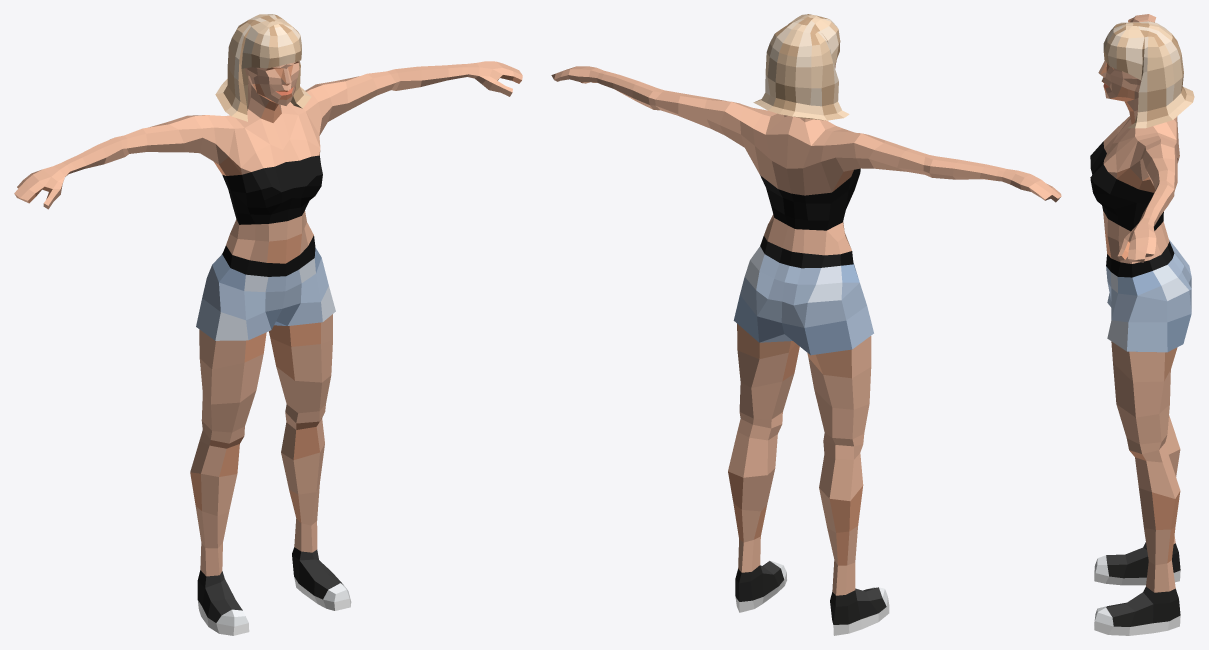
Rendered from casual_Female_K-model.fbx.
3 views of the same model, side by side, from view 1: azimuth 30°, elevation 25°; view 2: azimuth 150°, elevation 25°; view 3: azimuth 270°, elevation 25° (orthographic).
Parts seen in each view (by area): view 1: casual_Female_K, acc_hair_punkin; view 2: casual_Female_K, acc_hair_punkin; view 3: casual_Female_K, acc_hair_punkin.
Part boxes in pixels (bbox=[...]): casual_Female_K: bbox=[14, 61, 522, 635]; acc_hair_punkin: bbox=[215, 14, 311, 121]; casual_Female_K: bbox=[551, 59, 1061, 635]; acc_hair_punkin: bbox=[753, 14, 849, 120]; casual_Female_K: bbox=[1090, 14, 1191, 635]; acc_hair_punkin: bbox=[1103, 21, 1194, 128].
Bounding box in the file's own units: 153 × 170 × 27.67.
Materials: 1 (1 with a texture image).
